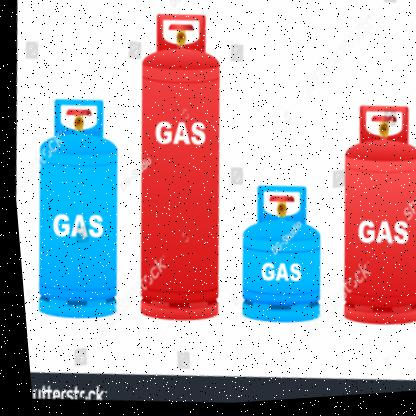gas-tank: (97, 1, 251, 343), (10, 83, 136, 325), (310, 90, 415, 347), (226, 174, 334, 339)
